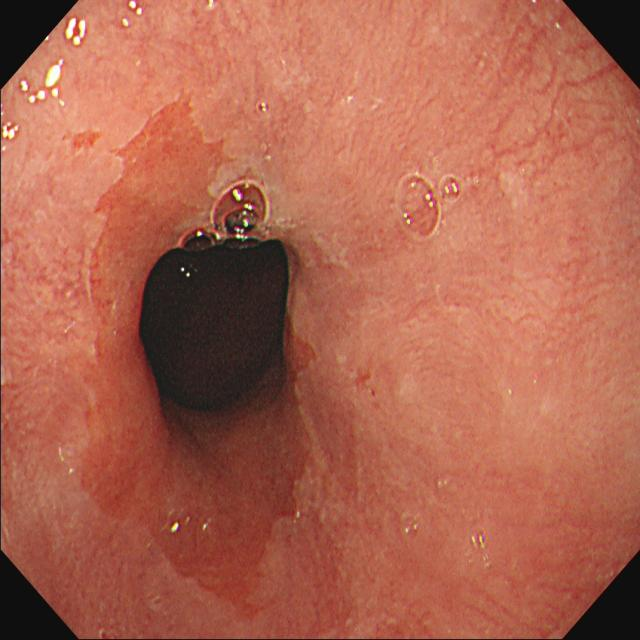D: (282, 536, 352, 636), (65, 128, 108, 154)
E: (139, 238, 292, 416)
I: (140, 466, 308, 640), (51, 231, 133, 516), (95, 65, 229, 230)
T: (178, 176, 273, 253), (392, 172, 466, 241), (471, 527, 491, 549)
U: (20, 60, 66, 109), (65, 18, 89, 51), (2, 122, 22, 143)
